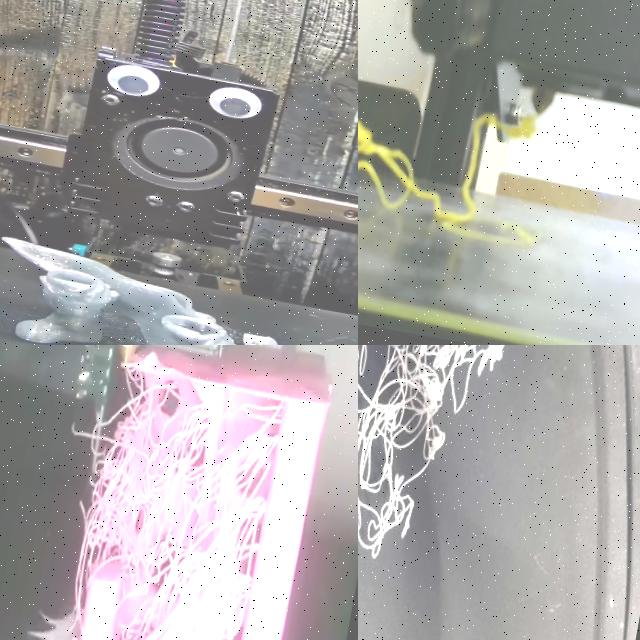spaghetti: (38, 359, 284, 640), (358, 345, 535, 640), (358, 114, 533, 230)
